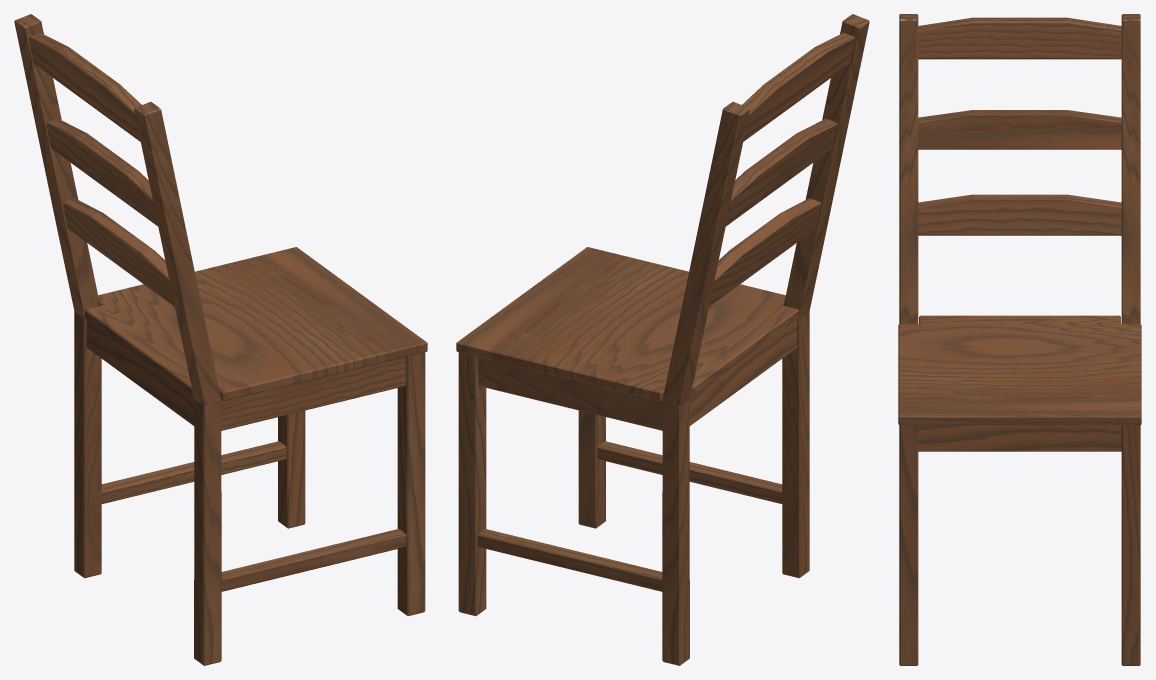
The model's file is chair2.glb.
3 renders of one model, left to right at view 1: azimuth 30°, elevation 25°; view 2: azimuth 150°, elevation 25°; view 3: azimuth 270°, elevation 25°, orthographic. The views are drawn at different scales.
Parts seen in each view (by area): view 1: Cube.009; view 2: Cube.009; view 3: Cube.009.
Part boxes in pixels (x1=…): Cube.009: x1=14, y1=14, x2=427, y2=665; Cube.009: x1=456, y1=14, x2=869, y2=665; Cube.009: x1=898, y1=14, x2=1141, y2=665.
Size of the model in its own units: 0.5034 by 0.963 by 0.4031.
Materials: 1 (1 with a texture image).
